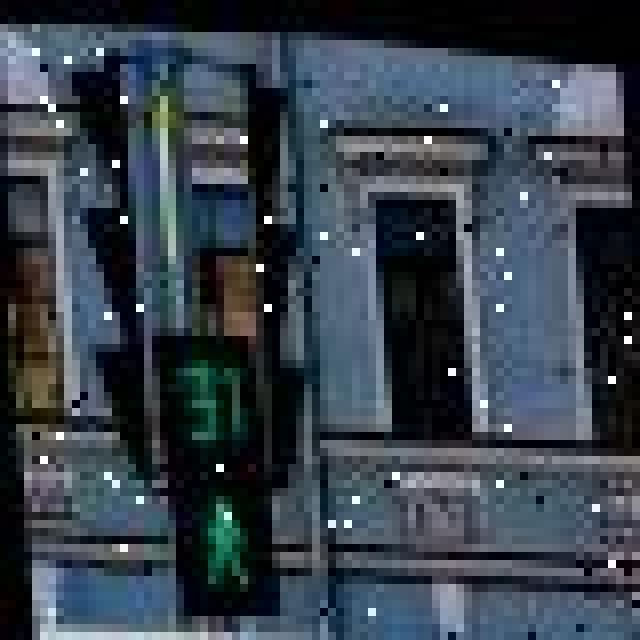greenlight: (161, 325, 292, 621)
